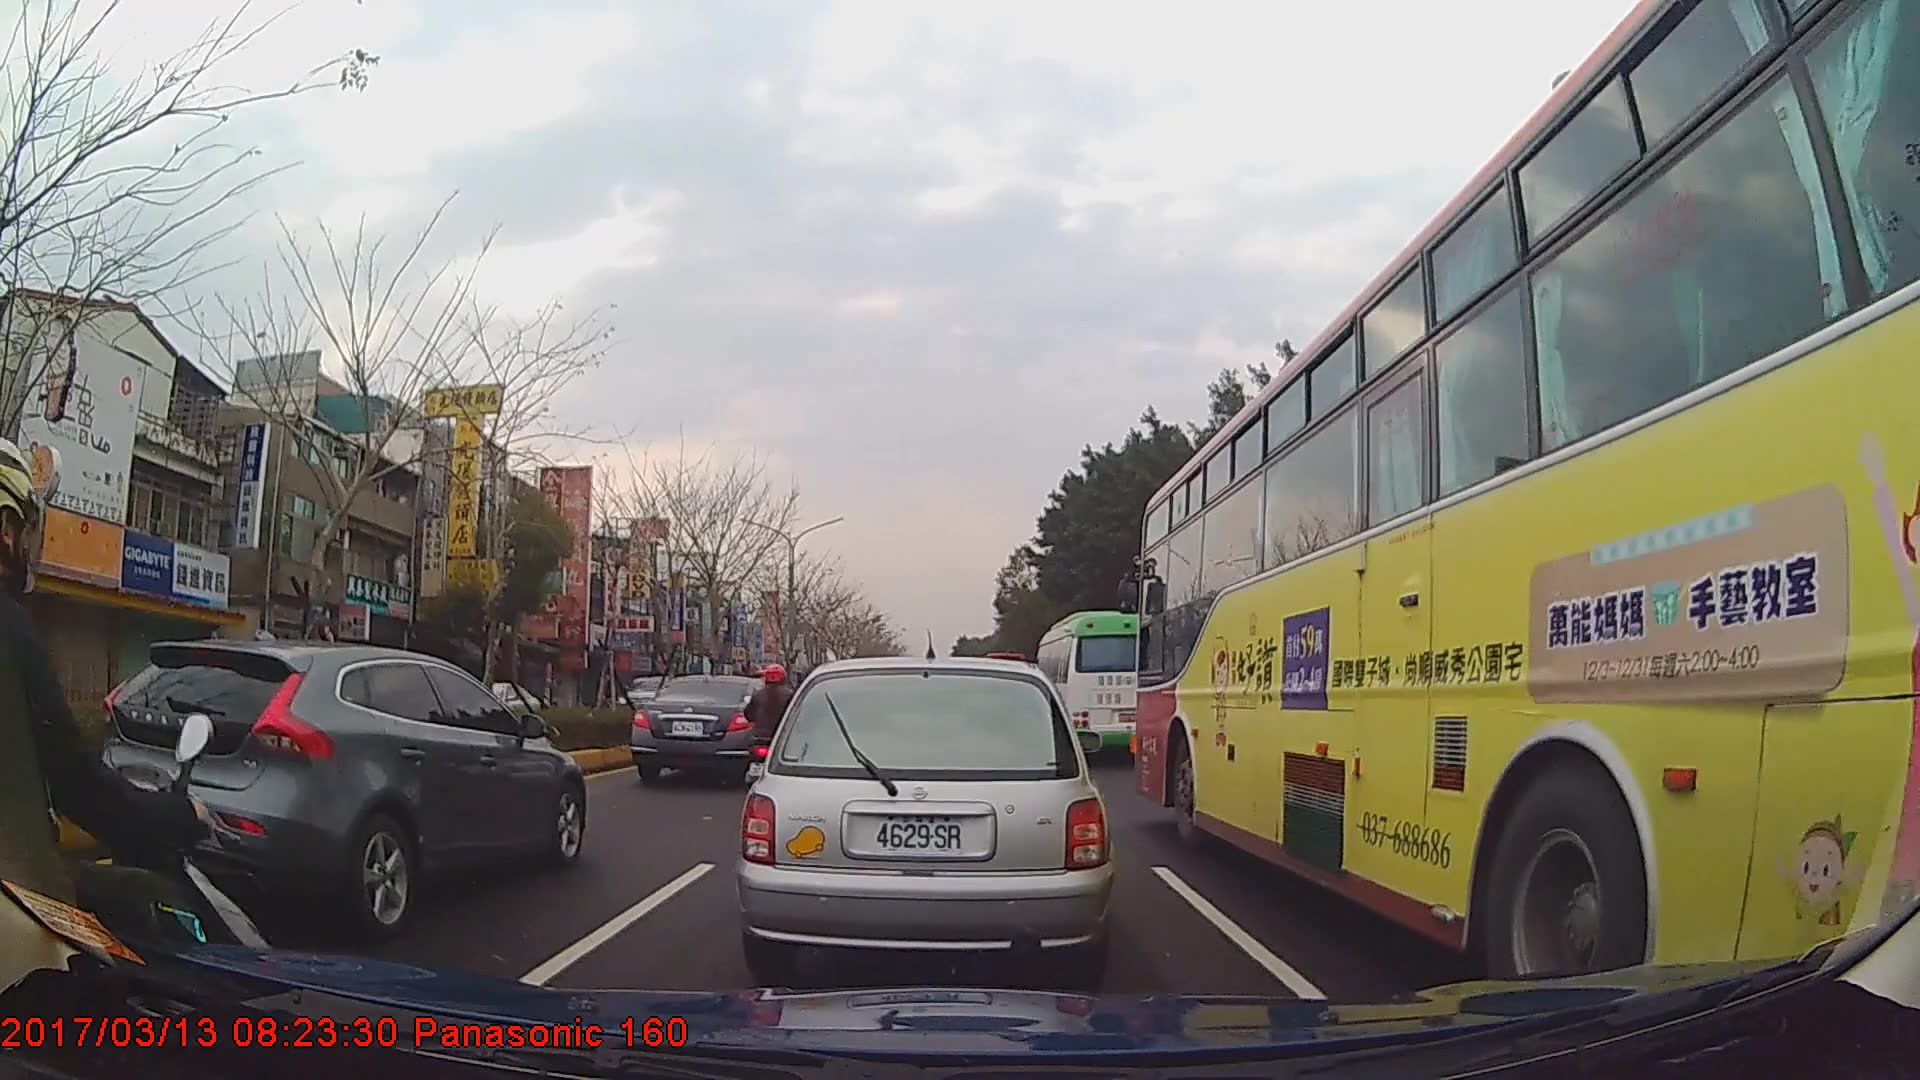rider: (1, 440, 288, 1018), (745, 664, 805, 803)
vehicle: (1133, 0, 1919, 1034), (92, 635, 586, 924), (734, 652, 1112, 981), (1033, 608, 1172, 768), (631, 673, 789, 787), (452, 680, 539, 732)
